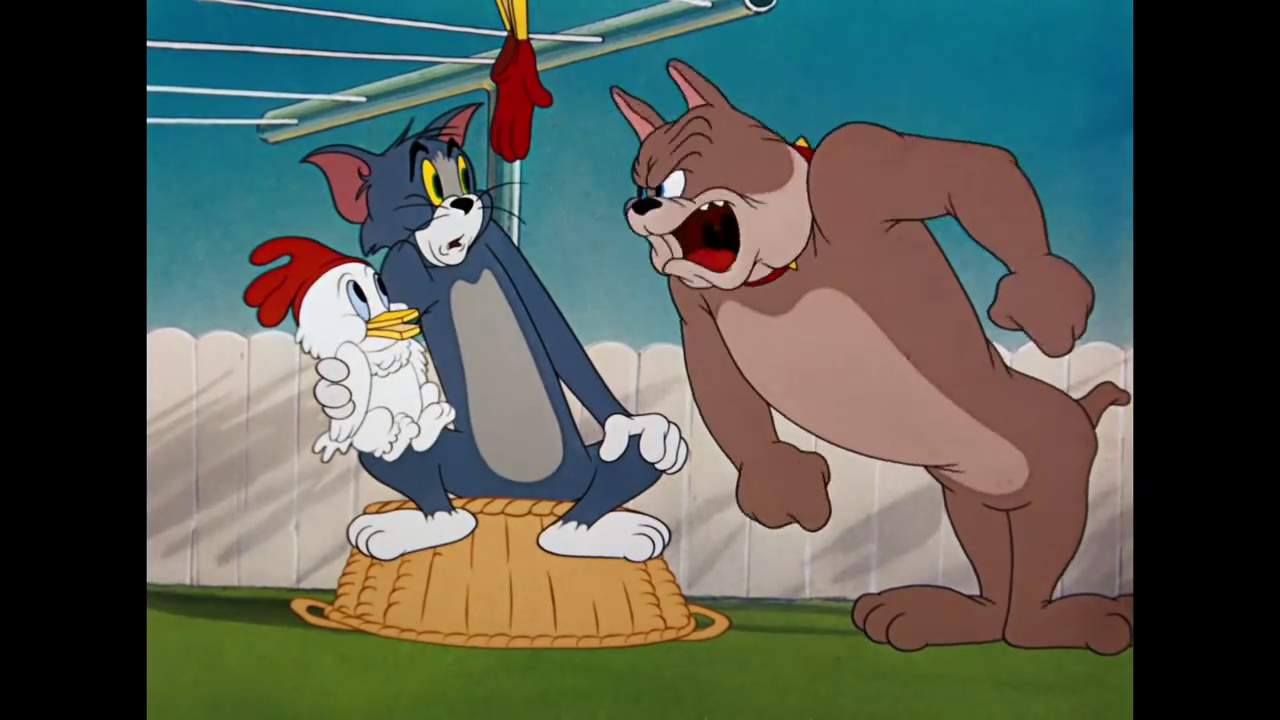spike: (610, 55, 822, 293)
tom: (296, 96, 521, 275)
